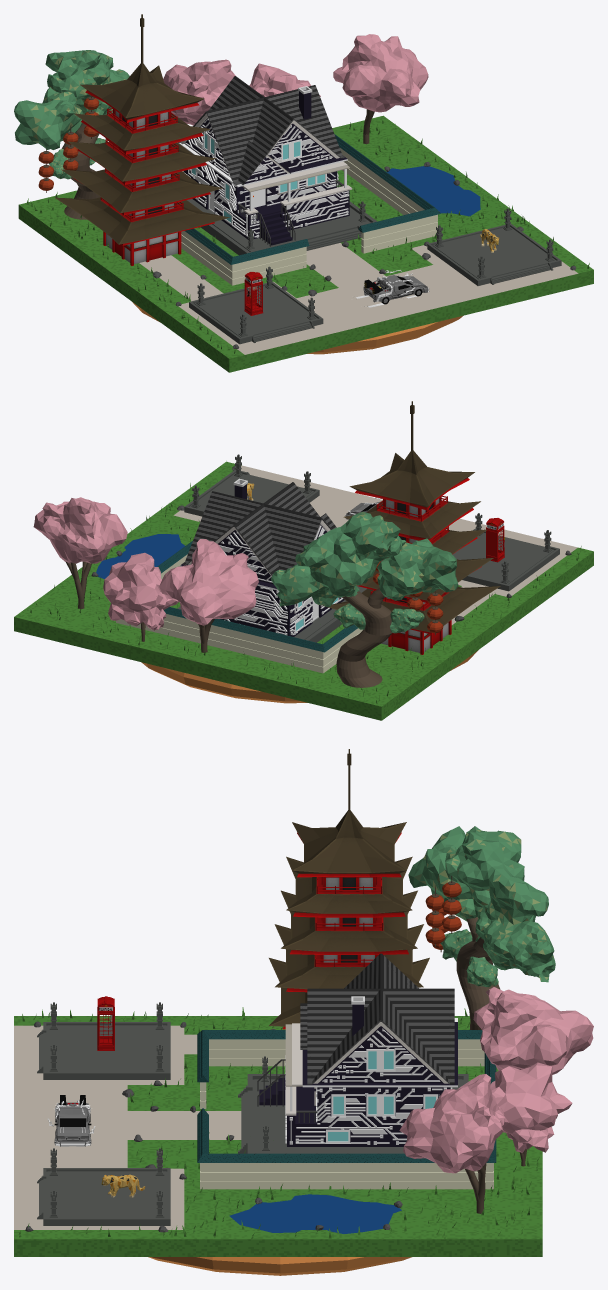
3 views of the same model, one above another, from view 1: azimuth 30°, elevation 25°; view 2: azimuth 150°, elevation 25°; view 3: azimuth 270°, elevation 25° (orthographic). The views are drawn at different scales.
Parts seen in each view (by area): view 1: Cube.005, Cube.918, VEHICLES_DELOREAN, UNDERGROUND_PIZZA, OBJRANDOM_PHONEBOOTH; view 2: Cube.005, Cube.918, UNDERGROUND_PIZZA, OBJRANDOM_PHONEBOOTH; view 3: Cube.005, Cube.918, UNDERGROUND_PIZZA, VEHICLES_DELOREAN, OBJRANDOM_PHONEBOOTH.
Part boxes in pixels (left/top/right/bottom): Cube.005: left=14, top=14, right=593, bottom=372; Cube.918: left=177, top=76, right=352, bottom=246; VEHICLES_DELOREAN: left=354, top=270, right=429, bottom=307; UNDERGROUND_PIZZA: left=132, top=302, right=463, bottom=354; OBJRANDOM_PHONEBOOTH: left=244, top=272, right=263, bottom=315; Cube.005: left=14, top=401, right=593, bottom=720; Cube.918: left=180, top=478, right=344, bottom=636; UNDERGROUND_PIZZA: left=141, top=650, right=478, bottom=703; OBJRANDOM_PHONEBOOTH: left=486, top=518, right=504, bottom=562; Cube.005: left=14, top=749, right=593, bottom=1256; Cube.918: left=257, top=953, right=457, bottom=1146; UNDERGROUND_PIZZA: left=148, top=1257, right=411, bottom=1275; VEHICLES_DELOREAN: left=47, top=1095, right=95, bottom=1146; OBJRANDOM_PHONEBOOTH: left=97, top=996, right=114, bottom=1050.
Size of the model in its own units: 4528 by 2902 by 4389.
Materials: 57 (5 with a texture image).
